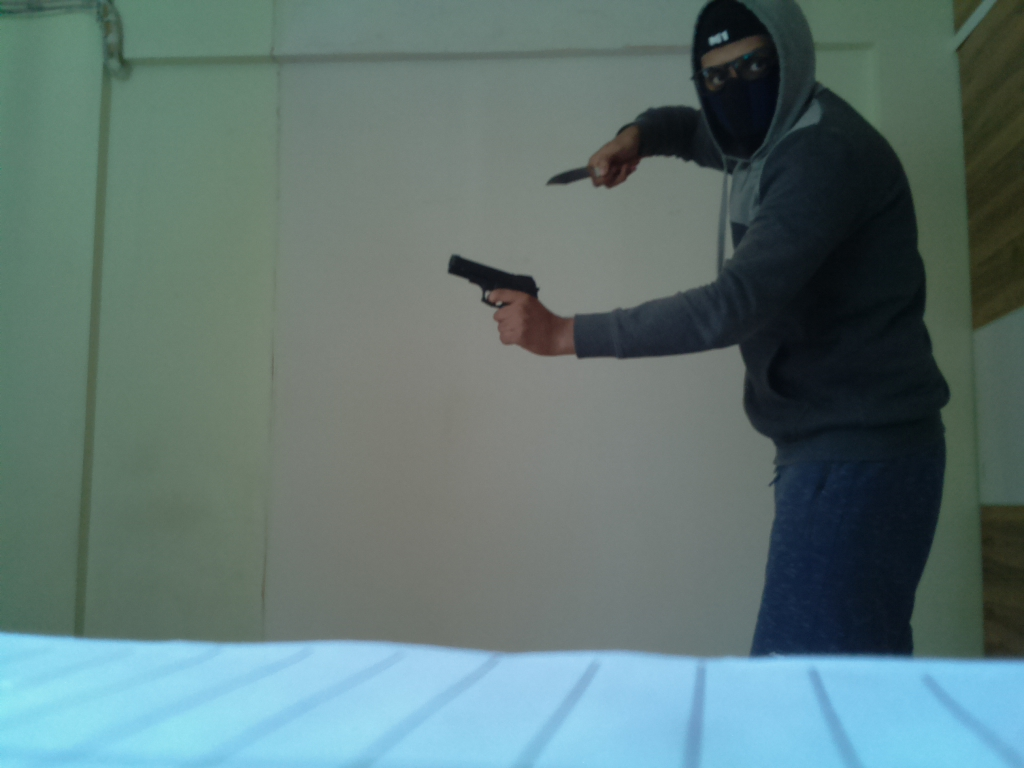gun: (440, 252, 544, 327)
knife: (542, 160, 610, 190)
